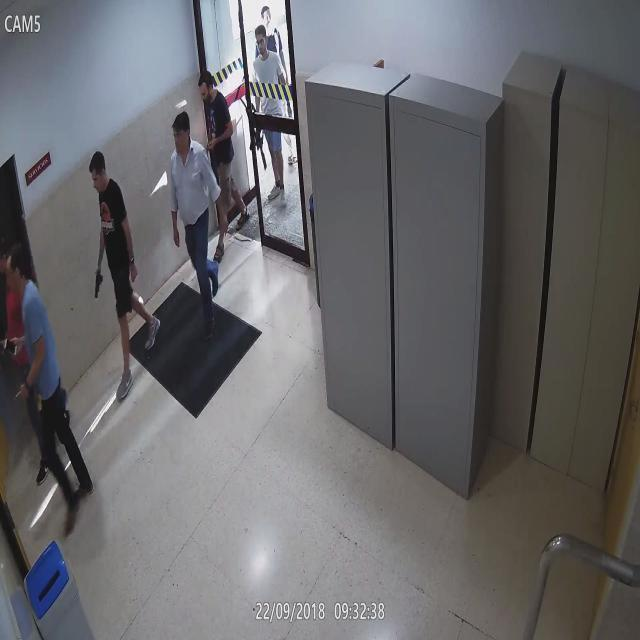weapon: (240, 102, 268, 170), (93, 274, 103, 300)
